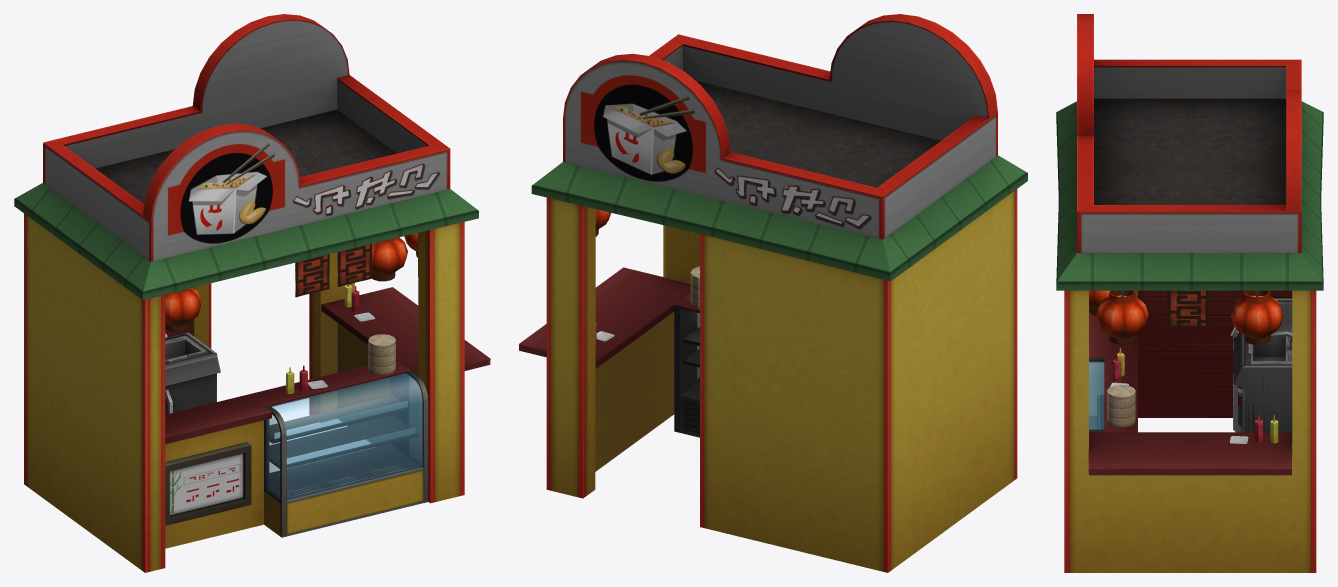
The model's file is ramennoodle_food_stall.glb.
3 views of the same model, side by side, from view 1: azimuth 30°, elevation 25°; view 2: azimuth 150°, elevation 25°; view 3: azimuth 270°, elevation 25° (orthographic). The views are drawn at different scales.
Parts seen in each view (by area): view 1: s4studio_mesh_4_4, s4studio_mesh_5_5, s4studio_mesh_1_1, s4studio_mesh_2_2; view 2: s4studio_mesh_5_5, s4studio_mesh_4_4, s4studio_mesh_1_1; view 3: s4studio_mesh_4_4, s4studio_mesh_5_5, s4studio_mesh_1_1, s4studio_mesh_2_2.
Boxes of the visible parts, left/top/right/bottom form: s4studio_mesh_4_4: left=14, top=14, right=490, bottom=537; s4studio_mesh_5_5: left=24, top=213, right=464, bottom=572; s4studio_mesh_1_1: left=165, top=233, right=417, bottom=525; s4studio_mesh_2_2: left=266, top=373, right=422, bottom=500; s4studio_mesh_5_5: left=546, top=189, right=1017, bottom=572; s4studio_mesh_4_4: left=519, top=14, right=1027, bottom=437; s4studio_mesh_1_1: left=595, top=209, right=699, bottom=345; s4studio_mesh_4_4: left=1056, top=14, right=1323, bottom=475; s4studio_mesh_5_5: left=1064, top=290, right=1316, bottom=572; s4studio_mesh_1_1: left=1089, top=290, right=1292, bottom=446; s4studio_mesh_2_2: left=1089, top=361, right=1104, bottom=429.
Bounding box in the file's own units: 3.2 × 3.5 × 1.96.
5 materials, 5 textured.
